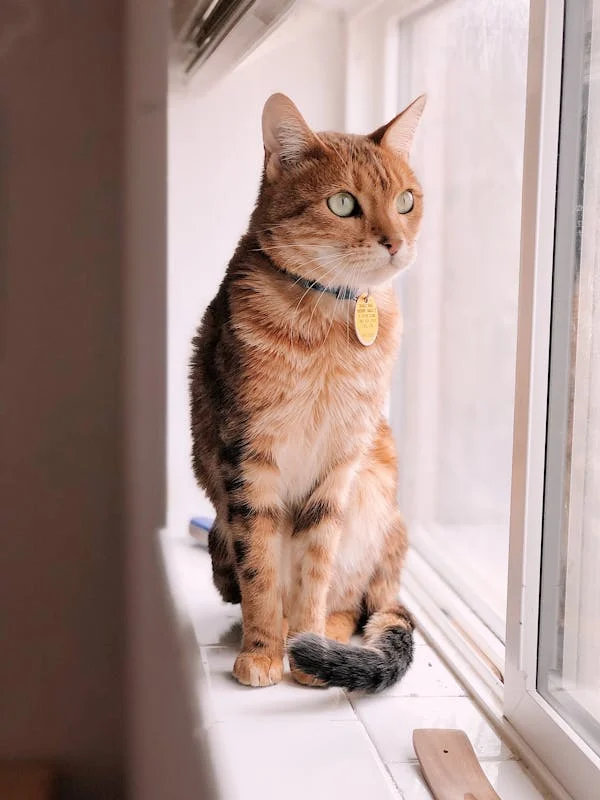Cat: (186, 97, 430, 689)
